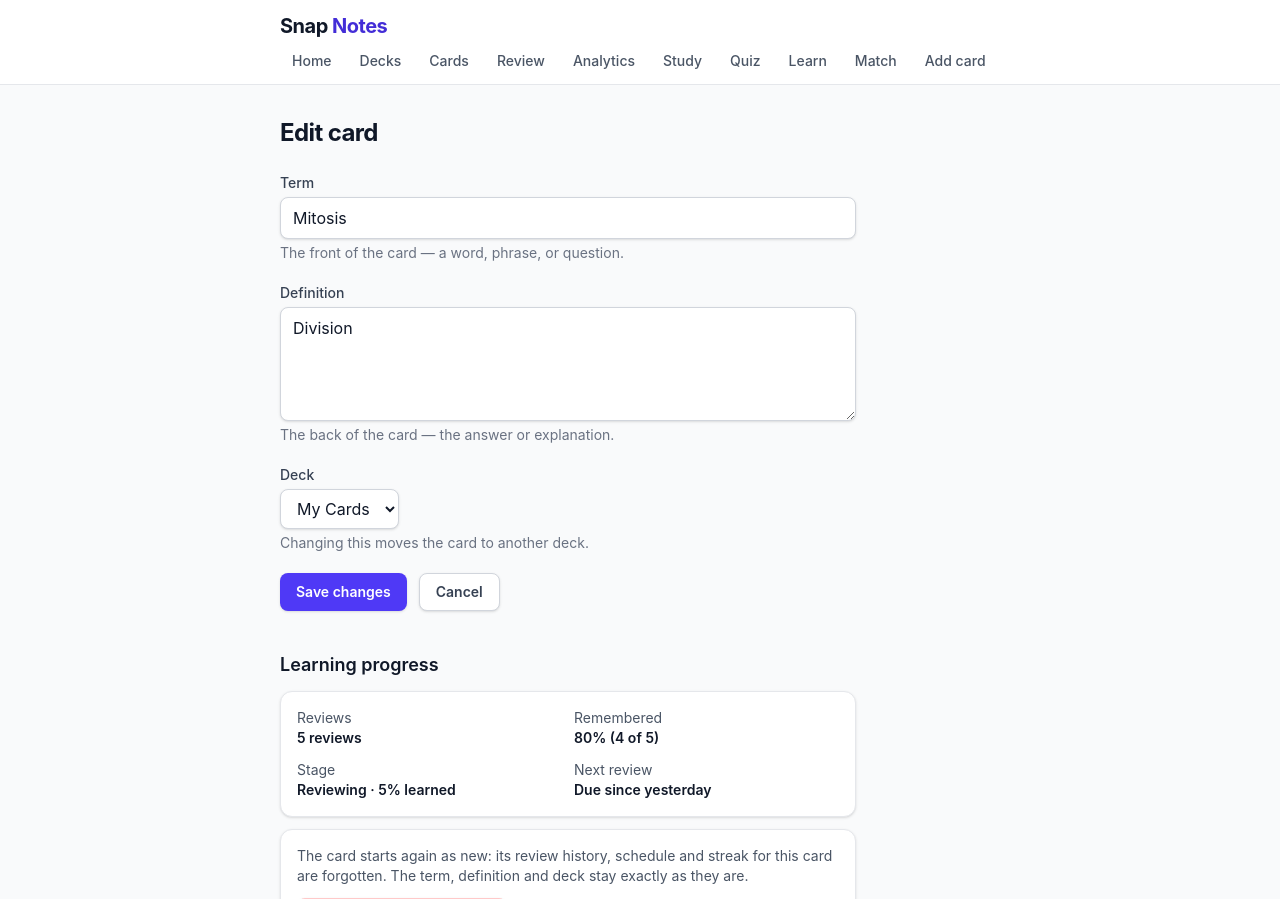
Test: progress follows the cards › survives editing a card
Replace the text in the text box labelled "Definition" with "Cell division" at (568, 364), box [280,307,856,421]
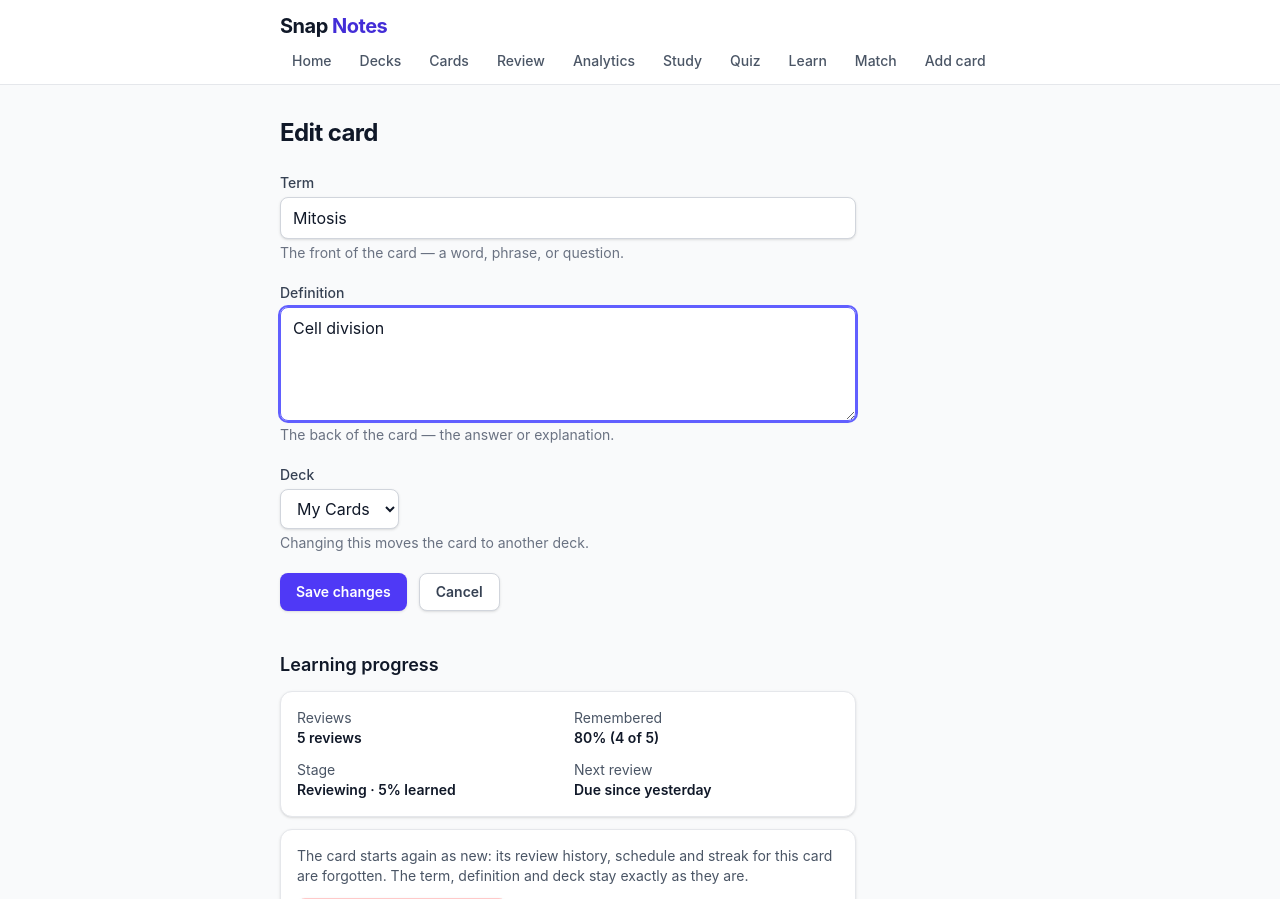
Click the button "Save changes".
click(343, 592)  # box [280,573,407,611]
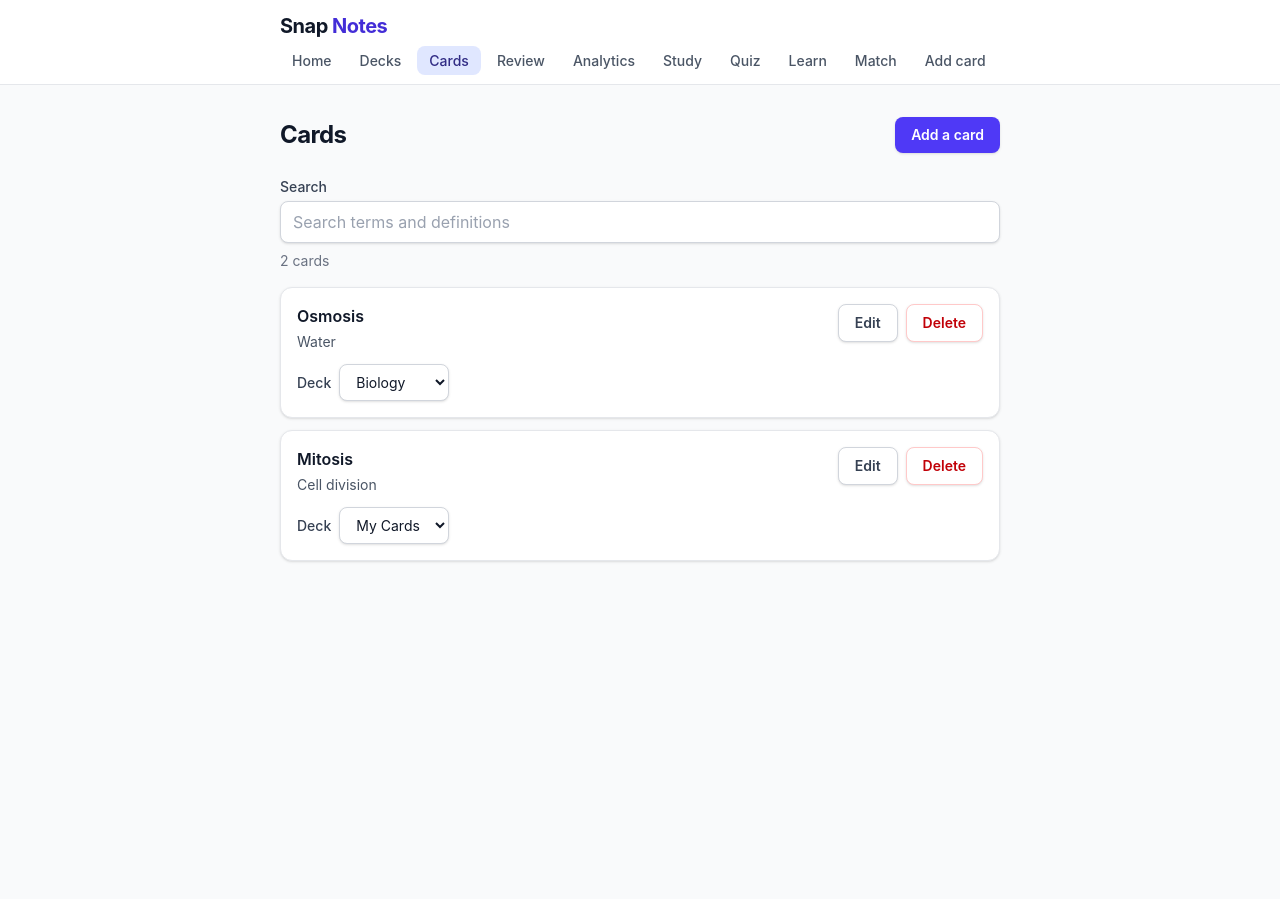
Result: the text "Cell division" is shown at [297,475,377,495]
